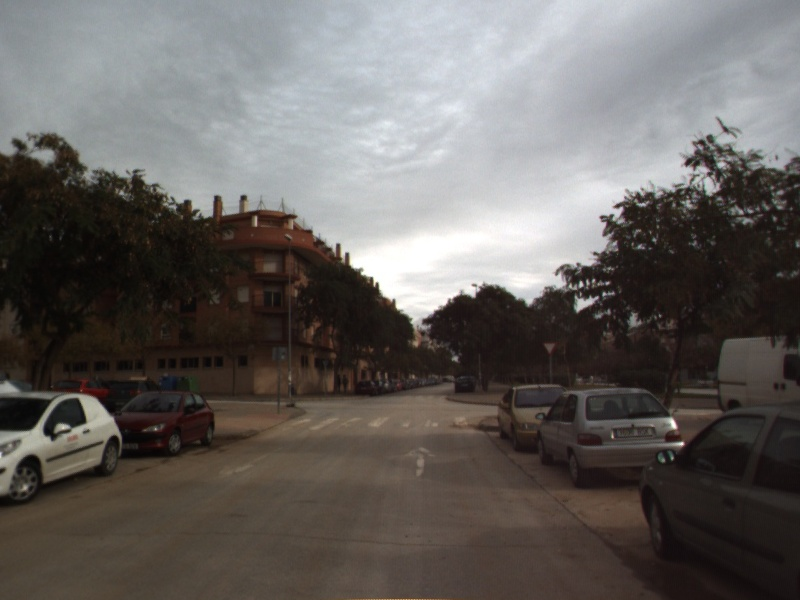STRAIGHT: (400, 444, 439, 479)
